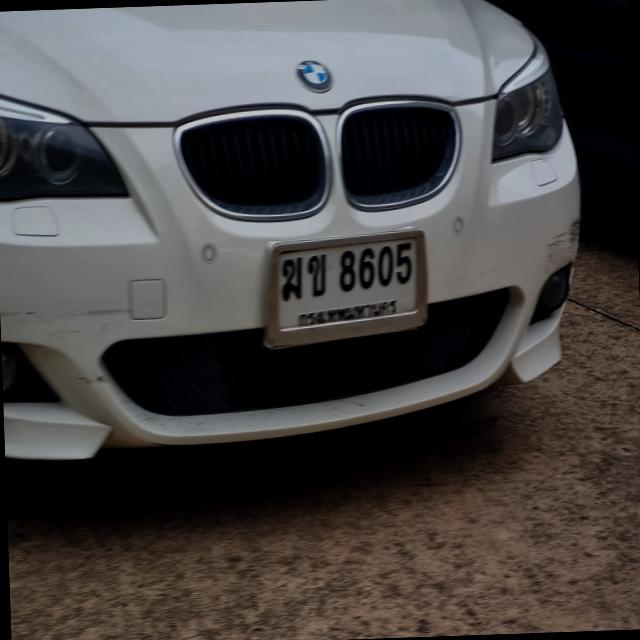license_plate: (260, 233, 429, 341)
